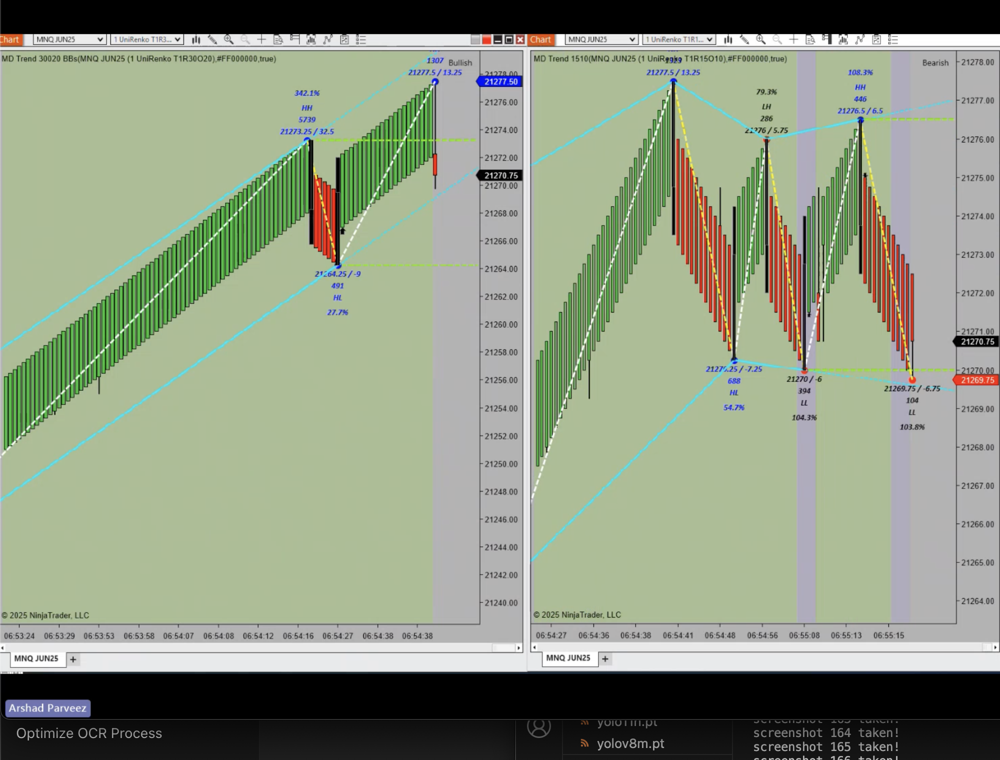HH: (293, 98, 320, 116), (849, 77, 873, 97)
HL: (724, 383, 750, 402), (327, 291, 349, 307)
LH: (756, 98, 777, 113)
LL: (796, 395, 819, 416), (901, 403, 923, 423)
